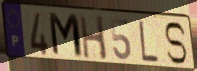4: (28, 11, 50, 57)
5: (109, 18, 133, 62)
H: (78, 15, 109, 62)
L: (137, 18, 160, 64)
M: (46, 11, 85, 61)
S: (163, 21, 189, 66)
